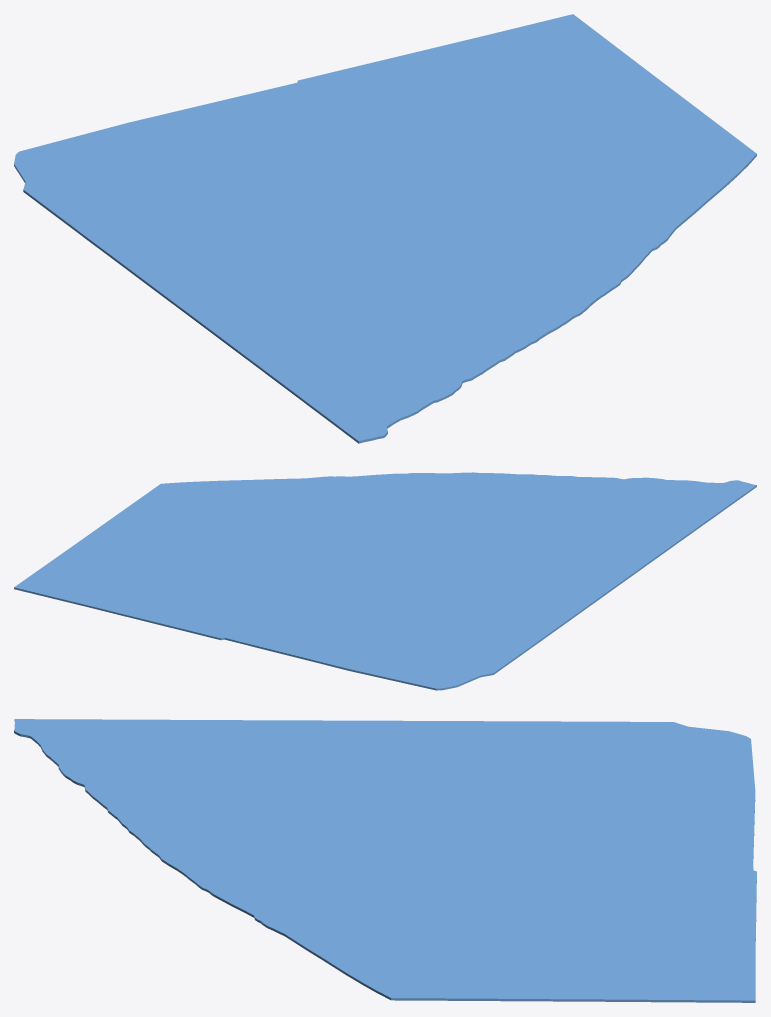
The picture shows the model from 3 angles, top to bottom: view 1: azimuth 30°, elevation 25°; view 2: azimuth 150°, elevation 25°; view 3: azimuth 270°, elevation 25°; orthographic projection. The views are drawn at different scales.
Bounding box in the file's own units: 794 × 3.05 × 885.
